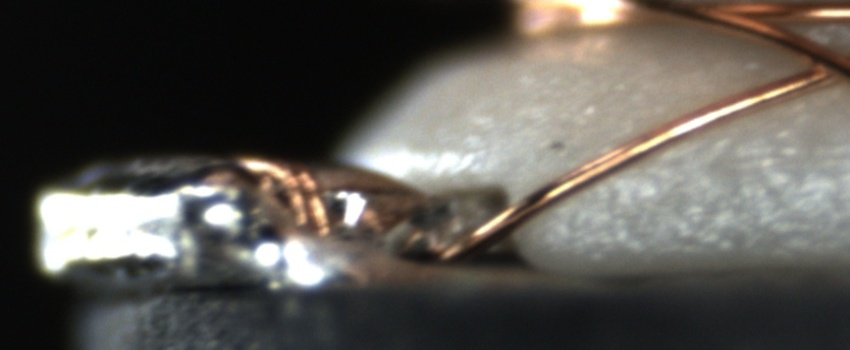CL: (778, 38, 848, 90)
DL: (659, 134, 850, 188)
TE: (237, 152, 377, 254)
